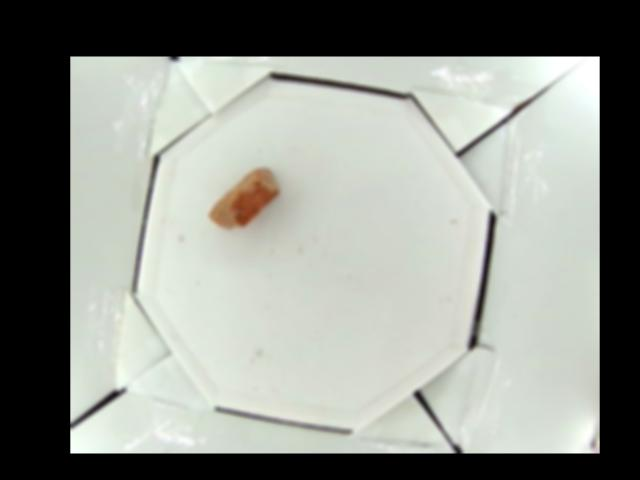Brisk: (207, 167, 279, 229)
